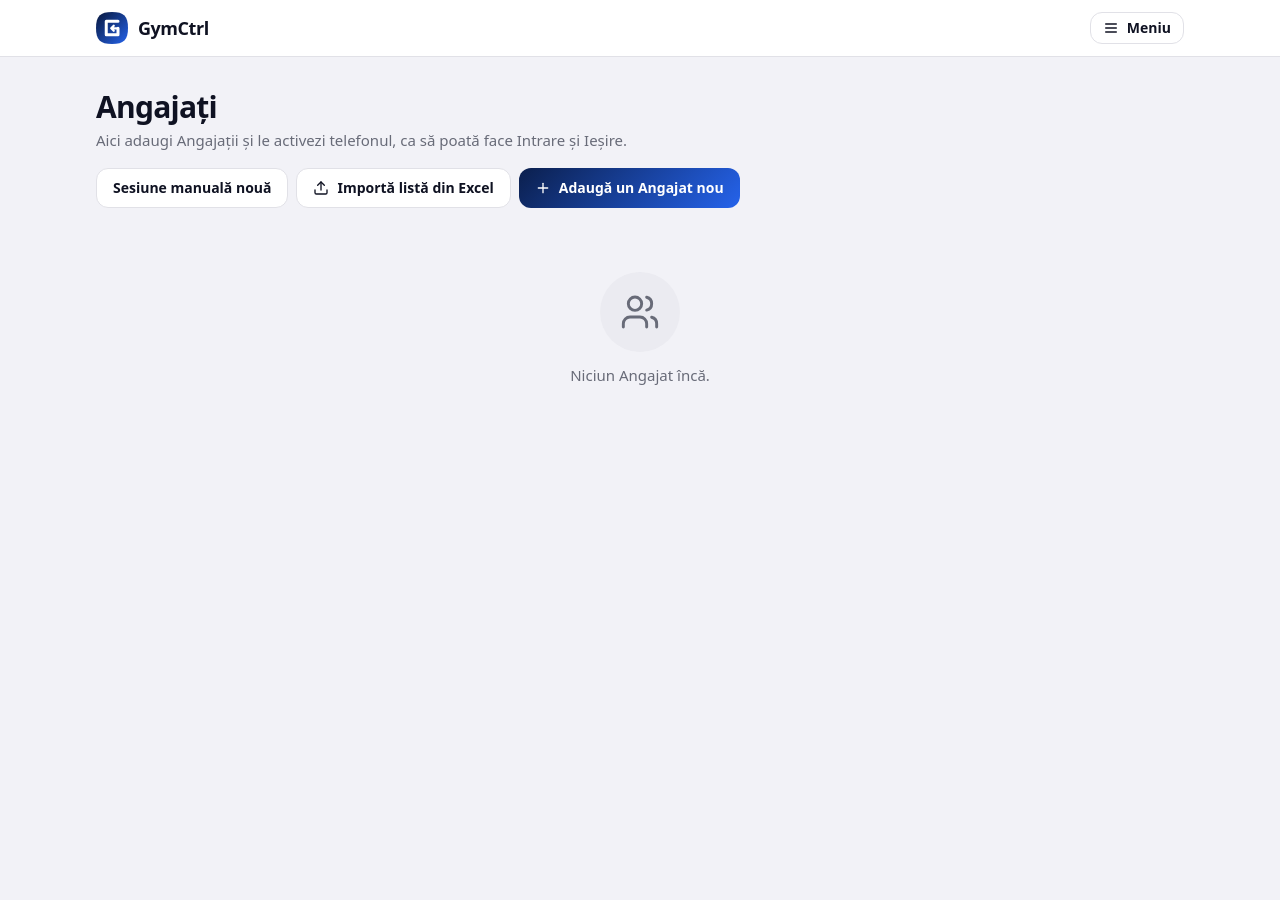
Test case: bara de sus și meniul › deschide meniul cu toate secțiunile, numele Adminului, comutatorul de temă și Deconectare
Click the button "Meniu".
click(1137, 28)  # box [1090,12,1184,44]
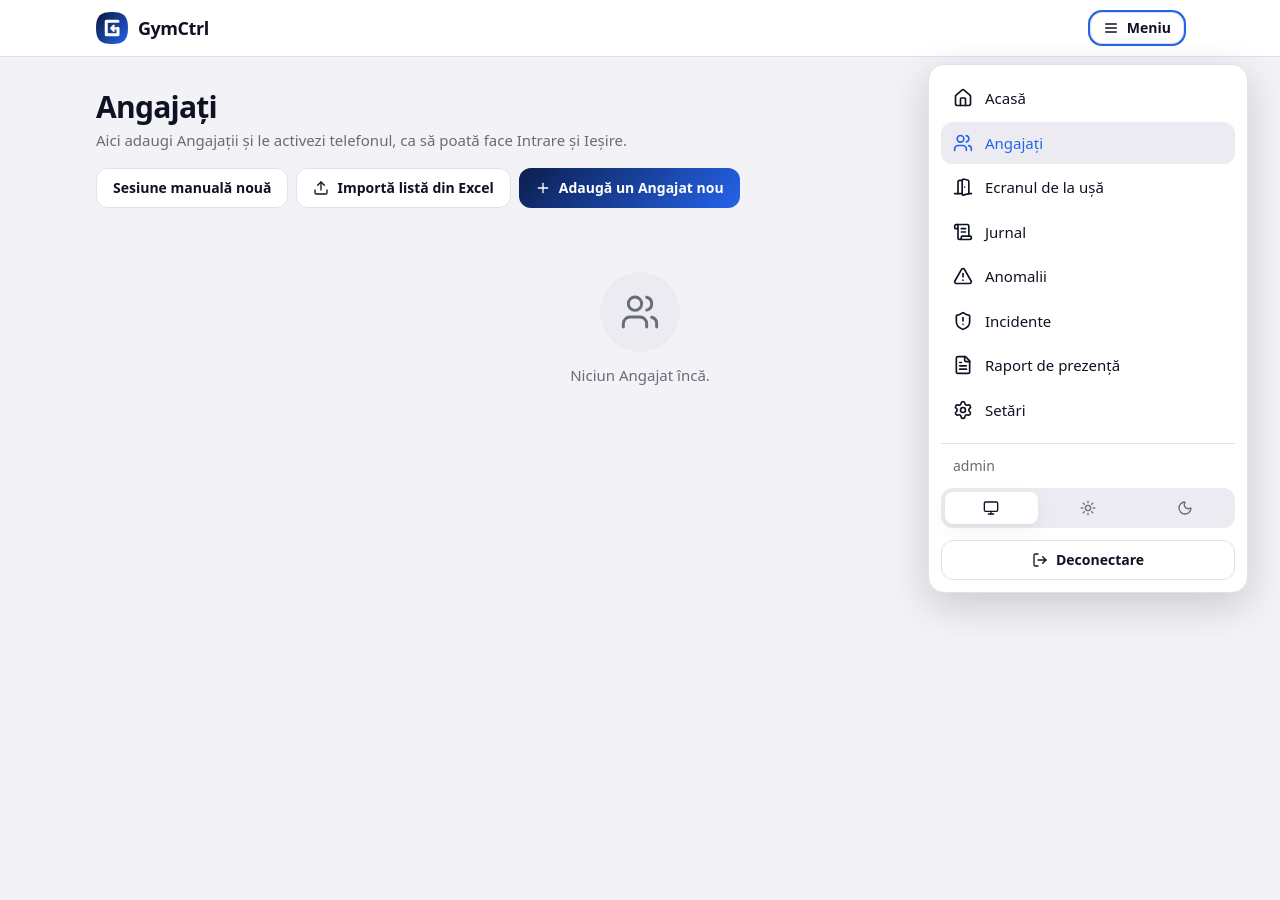
Expected: the text "admin" is shown, [953,456,995,475]
Expected: the element named "Temă" is shown, [941,488,1235,528]
Expected: the button "Deconectare" is shown, [941,540,1235,580]
